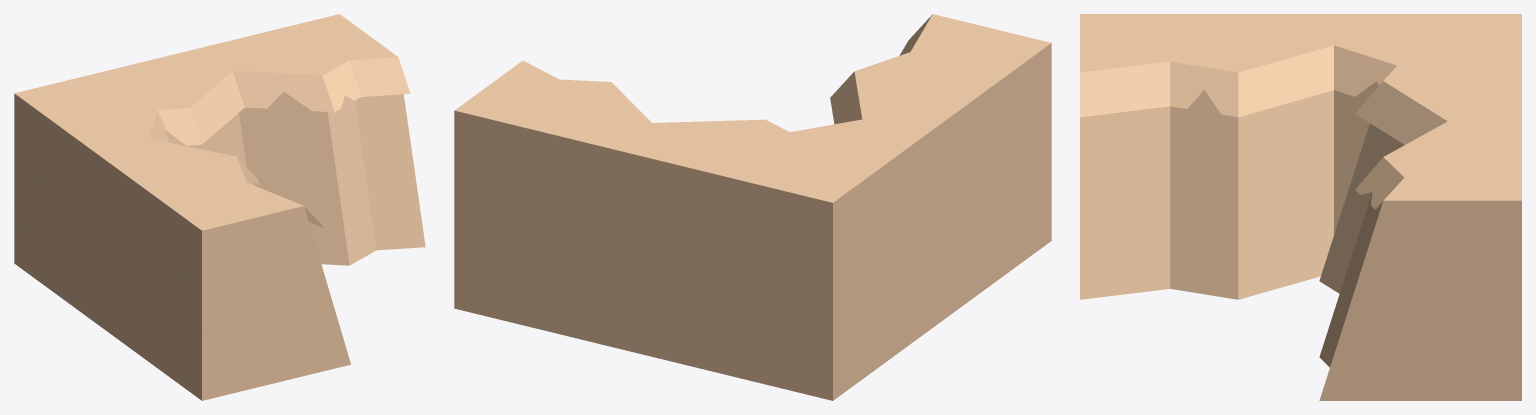
Rendered from cliffBrown_halfCornerInner.fbx.
3 views of the same model, side by side, from view 1: azimuth 30°, elevation 25°; view 2: azimuth 150°, elevation 25°; view 3: azimuth 270°, elevation 25° (orthographic). The views are drawn at different scales.
Visible parts, largest first — view 1: cliffBrown_halfCornerInner; view 2: cliffBrown_halfCornerInner; view 3: cliffBrown_halfCornerInner.
Part boxes in pixels (<box>): cliffBrown_halfCornerInner: <box>14,14,425,400</box>; cliffBrown_halfCornerInner: <box>454,14,1051,400</box>; cliffBrown_halfCornerInner: <box>1080,14,1521,400</box>.
Size of the model in its own units: 300 by 150 by 300.
